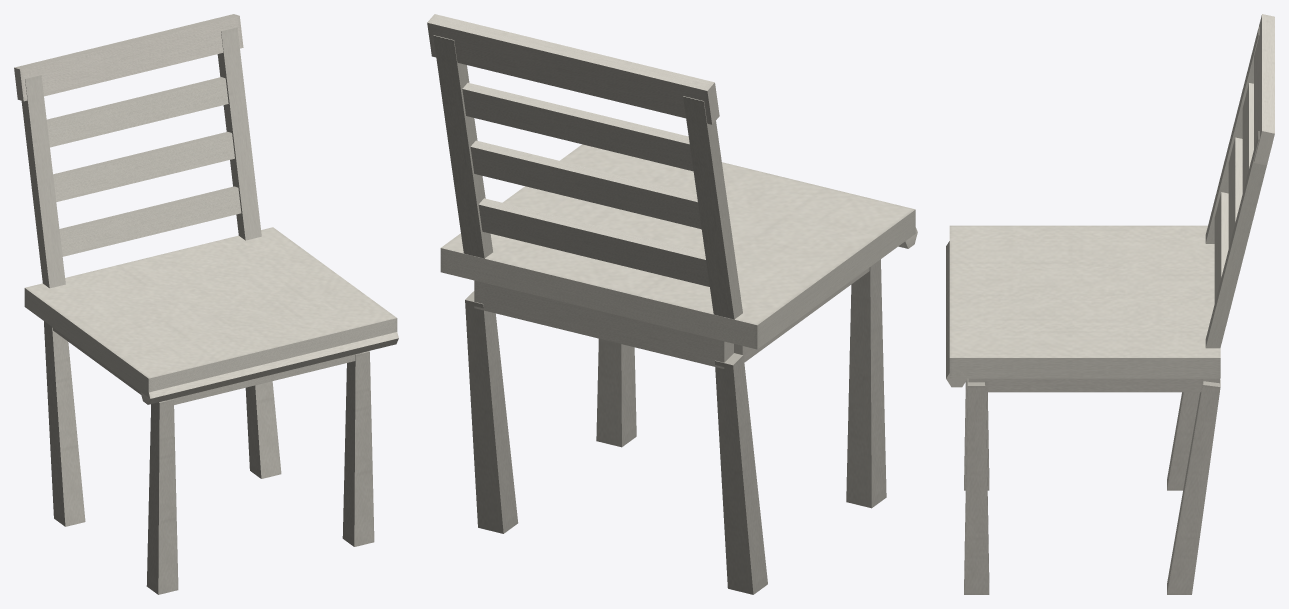
Rendered from pool_chair.glb.
3 views of the same model, side by side, from view 1: azimuth 30°, elevation 25°; view 2: azimuth 150°, elevation 25°; view 3: azimuth 270°, elevation 25° (orthographic). The views are drawn at different scales.
Visible parts, largest first — view 1: core_pool_chair; view 2: core_pool_chair; view 3: core_pool_chair.
Boxes of the visible parts, x1=… form: core_pool_chair: x1=14, y1=14, x2=398, y2=594; core_pool_chair: x1=427, y1=14, x2=917, y2=594; core_pool_chair: x1=946, y1=14, x2=1274, y2=594.
Size of the model in its own units: 0.52 by 0.8517 by 0.5462.
1 material, 1 textured.
